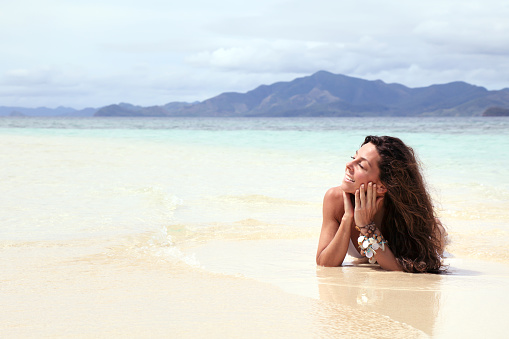deitado: (304, 129, 434, 275)
